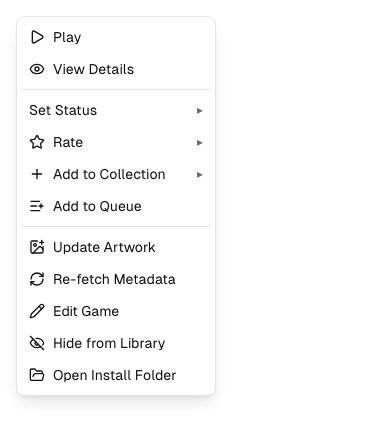
Test: Story 6.4: Game Card Context Menu › Set Status submenu shows 5 statuses on hover
Step 1. Hover over the menu item with test id "ctx-status" → (116, 110), box top-left (21, 94), bottom-right (211, 126)
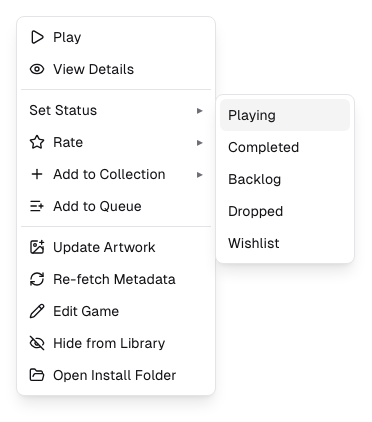
Check: the menu with test id "ctx-status-submenu" is shown, box top-left (215, 94), bottom-right (355, 264)
Check: the menu item with test id "ctx-status-playing" is shown, box top-left (220, 99), bottom-right (350, 131)
Check: the menu item with test id "ctx-status-completed" is shown, box top-left (220, 131), bottom-right (350, 163)
